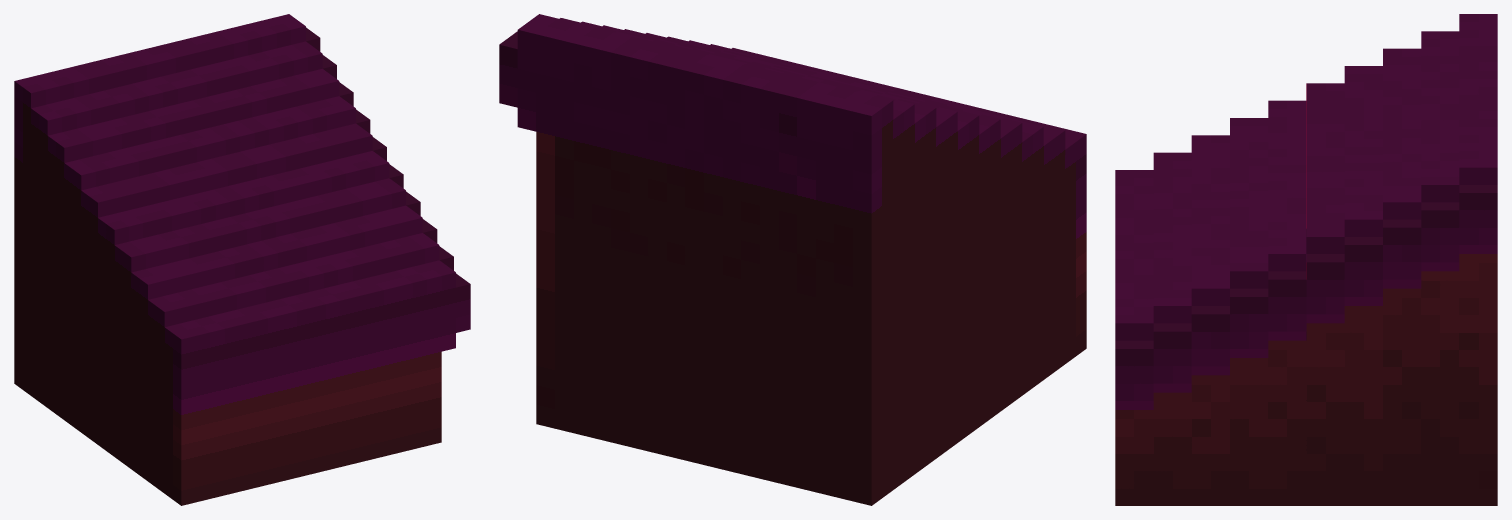
Rendered from half_ramp_full_right.glb.
3 renders of one model, left to right at view 1: azimuth 30°, elevation 25°; view 2: azimuth 150°, elevation 25°; view 3: azimuth 270°, elevation 25°, orthographic. The views are drawn at different scales.
Parts seen in each view (by area): view 1: half_ramp_full_right; view 2: half_ramp_full_right; view 3: half_ramp_full_right.
Boxes of the visible parts, left/top/right/bottom form: half_ramp_full_right: left=14, top=14, right=470, bottom=505; half_ramp_full_right: left=499, top=14, right=1086, bottom=505; half_ramp_full_right: left=1115, top=14, right=1497, bottom=505.
Bounding box in the file's own units: 2 × 2 × 2.
Materials: 1 (1 with a texture image).
